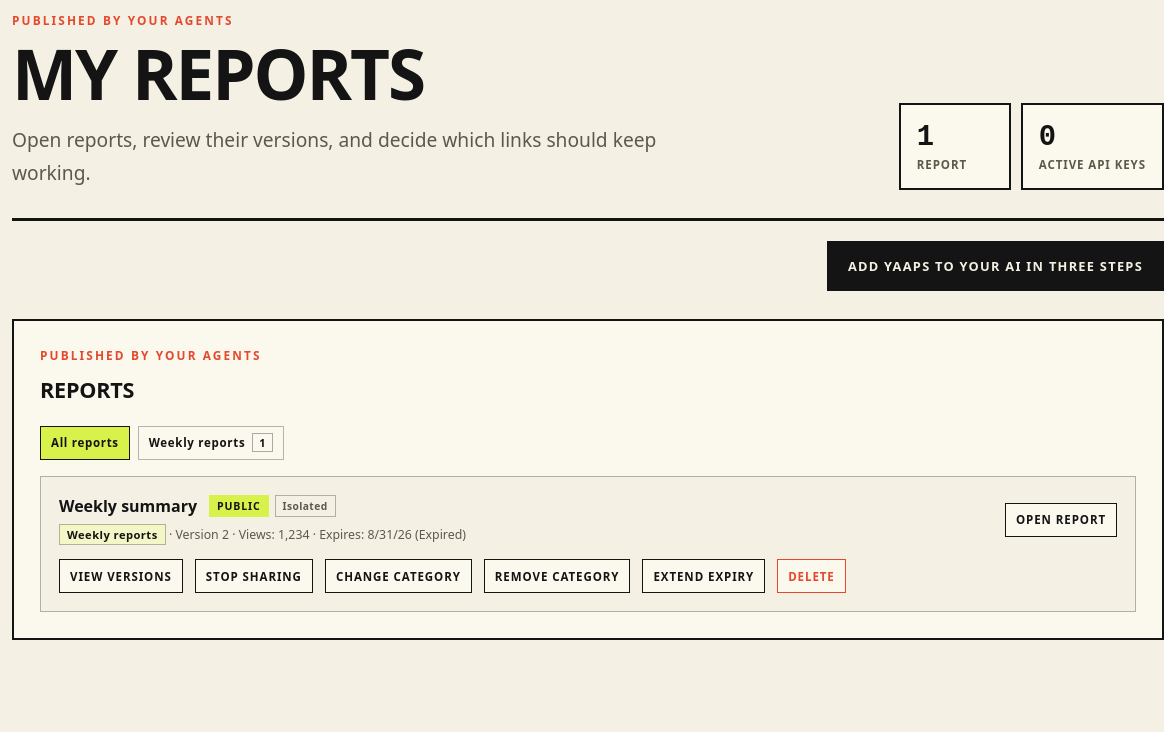
Test: signed-in management dashboard › changes and then removes the category of a report
The image size is (1164, 732).
Expected: the link "Weekly summary" is shown, [59, 495, 197, 517]
Click the button "Change category". click: (398, 576)
box: [325, 559, 472, 593]
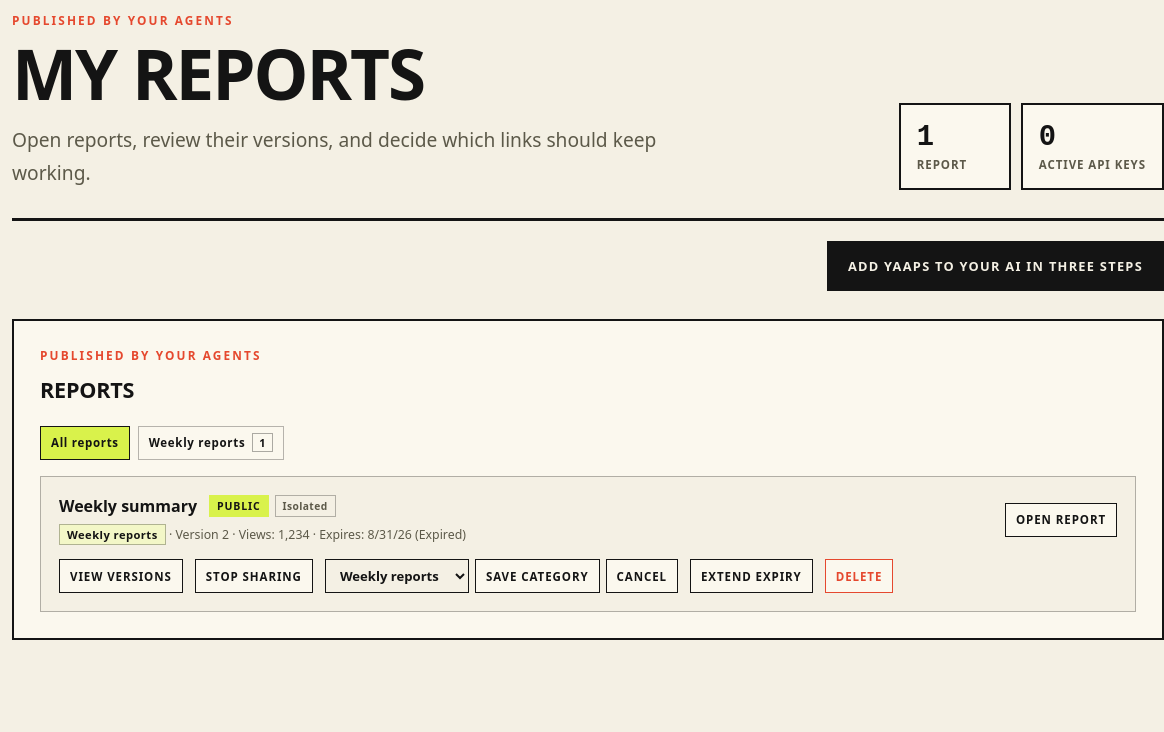
Select "New category…" in the dropdown named "Category". click: (397, 576)
box: [325, 559, 469, 593]
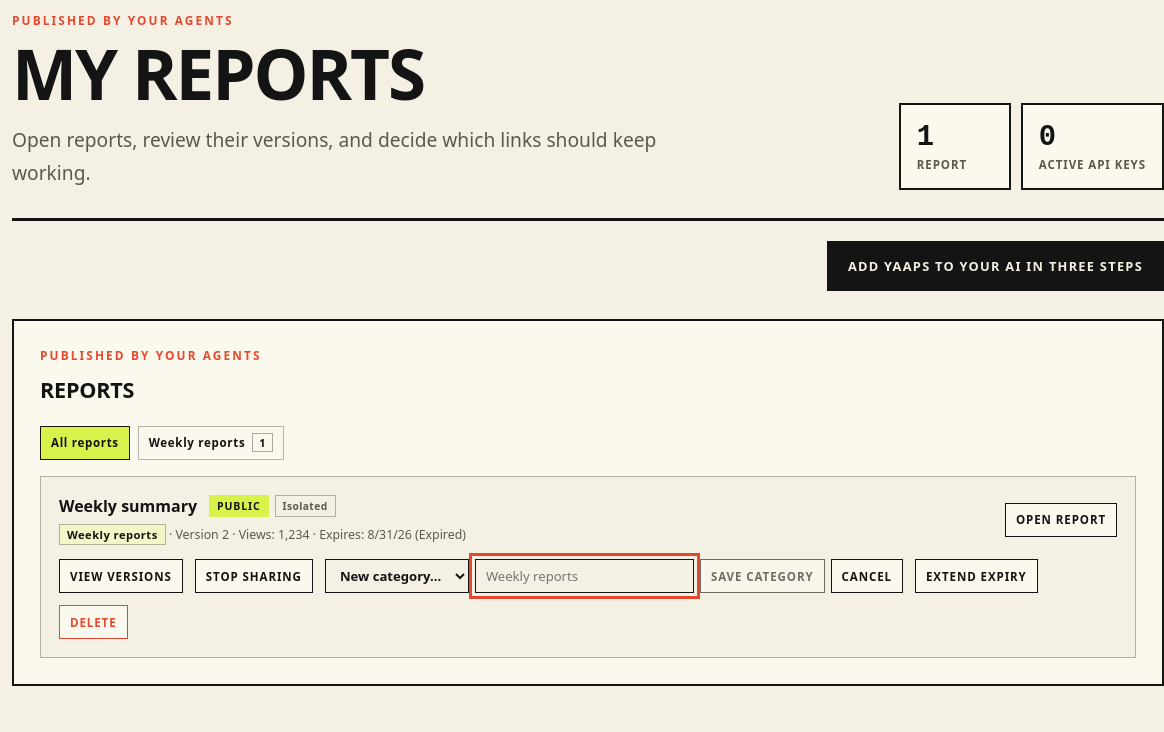
Now the field named "New category name" is empty
Type "Monthly reports" into the field named "New category name". click: (584, 576)
box: [475, 559, 694, 593]
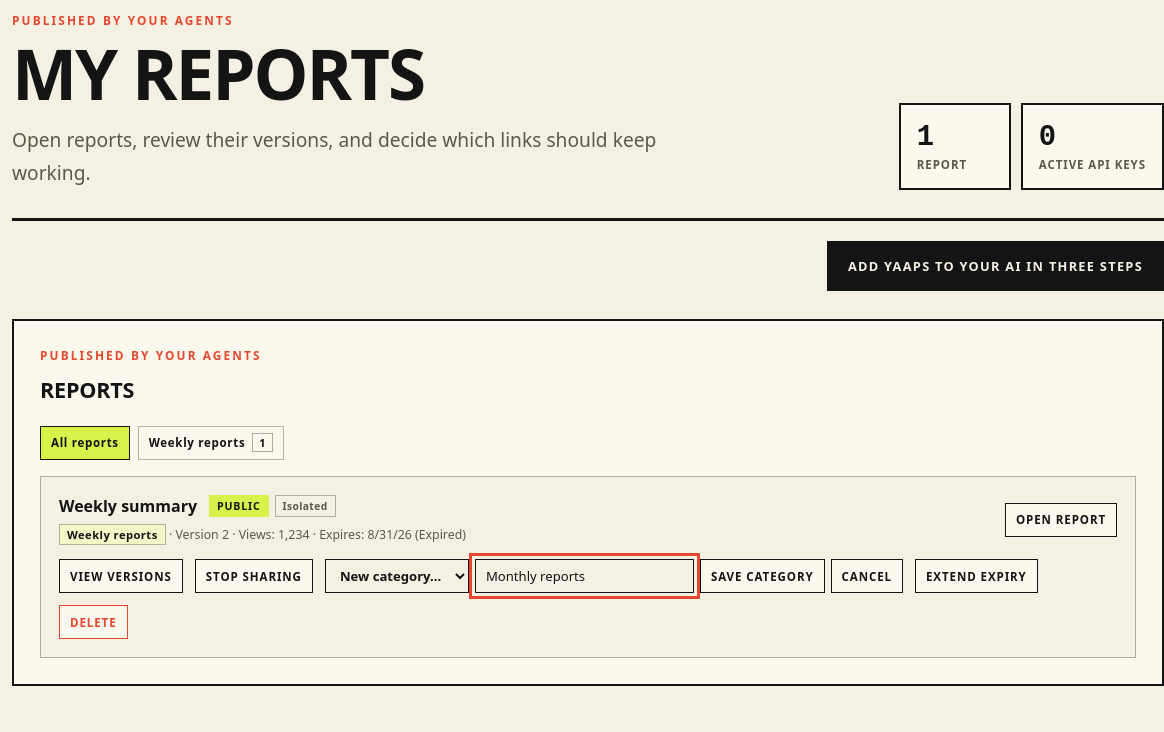
Click the button "Save category". click: (762, 576)
box: [700, 559, 824, 593]
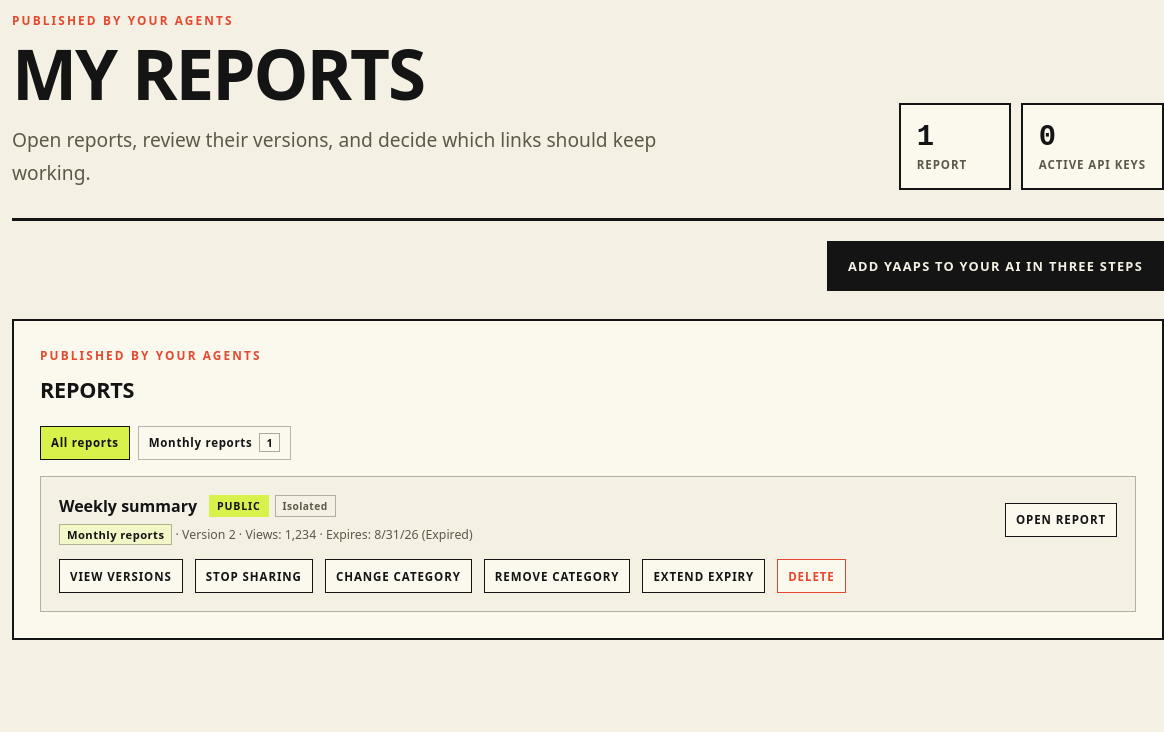
Click the button "Remove category". click: (557, 576)
box: [484, 559, 630, 593]
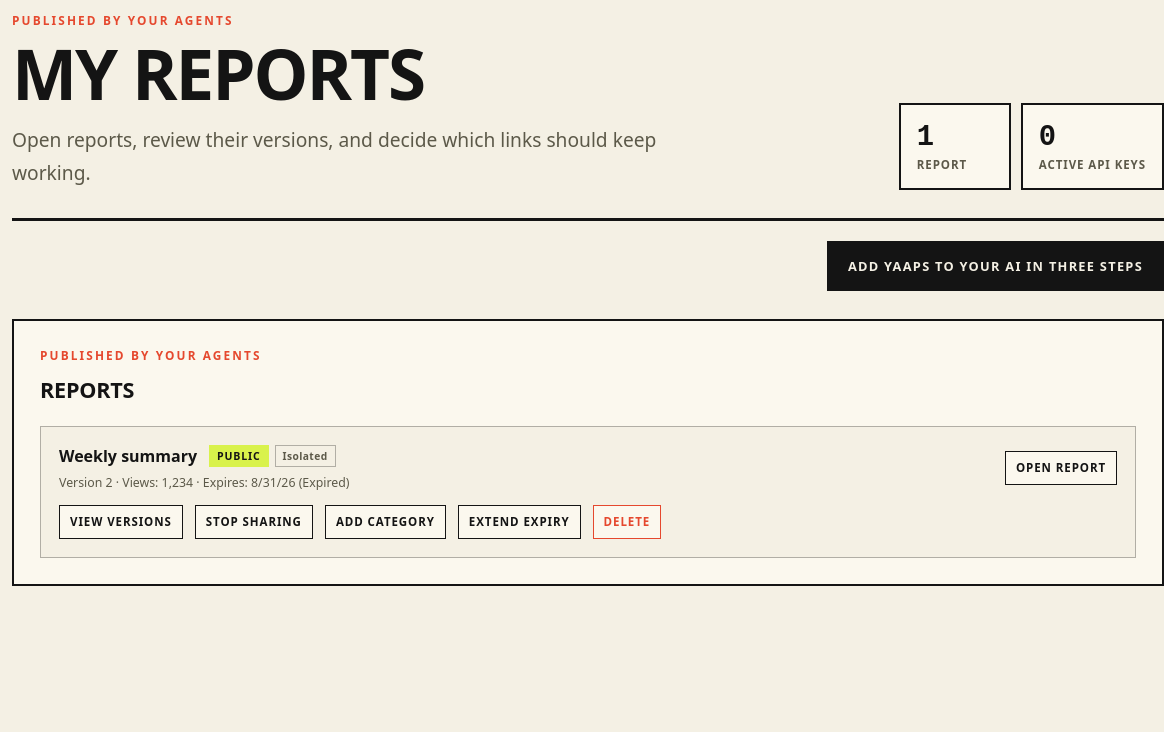
Now the text with class "category-chip" is gone
Now the button "Add category" is shown, box [325, 505, 446, 539]
